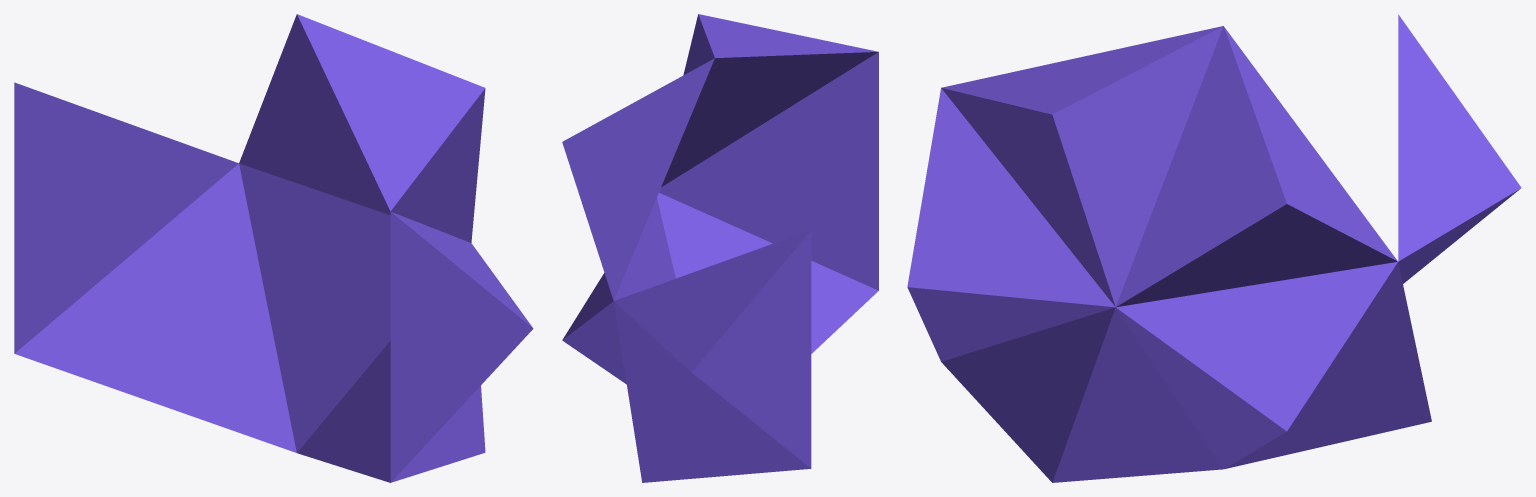
3 renders of one model, left to right at view 1: azimuth 30°, elevation 25°; view 2: azimuth 150°, elevation 25°; view 3: azimuth 270°, elevation 25°, orthographic. The views are drawn at different scales.
Visible parts, largest first — view 1: Object_31; view 2: Object_31; view 3: Object_31.
Boxes of the visible parts, x1=… form: Object_31: x1=14, y1=14, x2=533, y2=482; Object_31: x1=562, y1=14, x2=878, y2=482; Object_31: x1=907, y1=14, x2=1521, y2=482.
Bounding box in the file's own units: 4.34 × 5.38 × 6.76.
